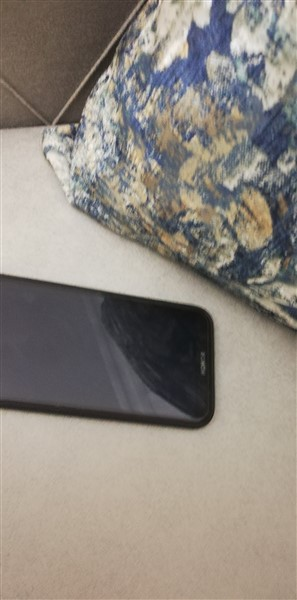telefon: (1, 267, 223, 433)
